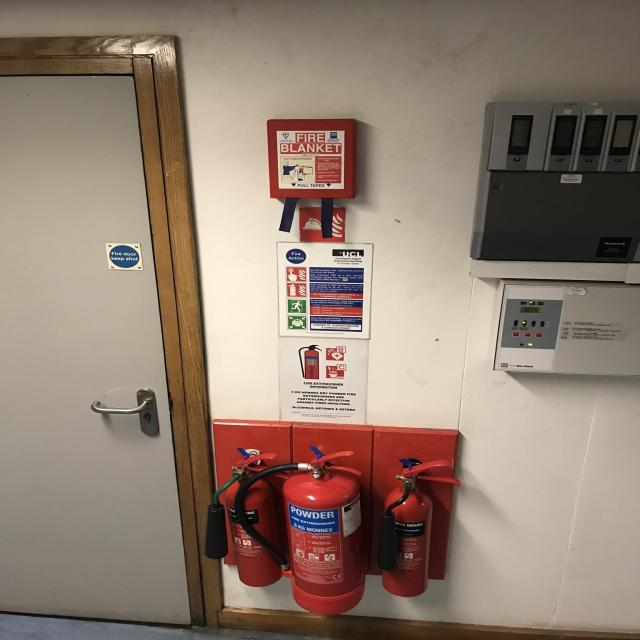fire_extinguisher: (230, 450, 371, 618), (200, 448, 291, 590), (374, 454, 462, 598)
